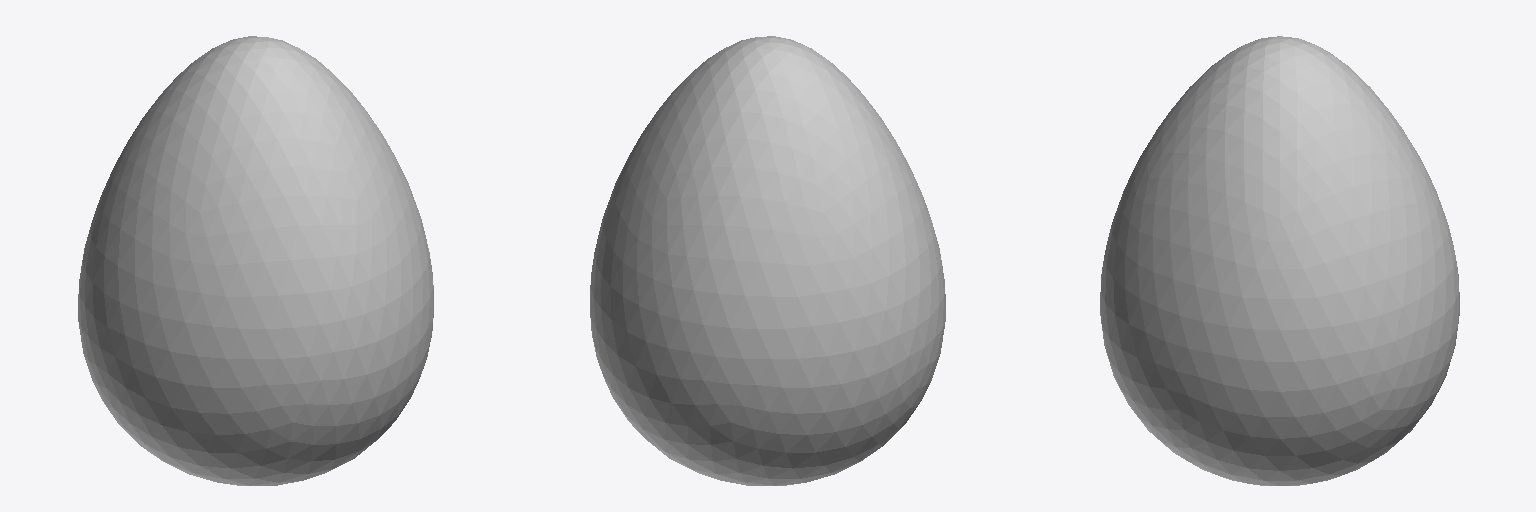
File: egg.obj
The picture shows the model from 3 angles: view 1: azimuth 30°, elevation 25°; view 2: azimuth 150°, elevation 25°; view 3: azimuth 270°, elevation 25°; orthographic projection.
Parts seen in each view (by area): view 1: Icosphere; view 2: Icosphere; view 3: Icosphere.
Part boxes in pixels (x1,y1,x2,y2): Icosphere: (78, 36, 433, 485); Icosphere: (590, 36, 945, 485); Icosphere: (1100, 36, 1459, 485).
Bounding box in the file's own units: 1.53 × 2 × 1.53.